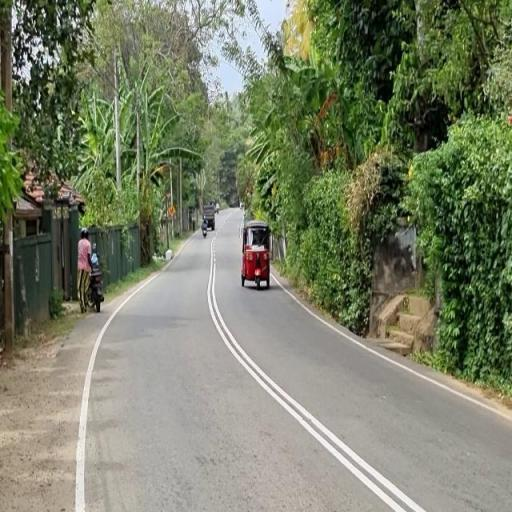double_white_line: (206, 285, 432, 510)
